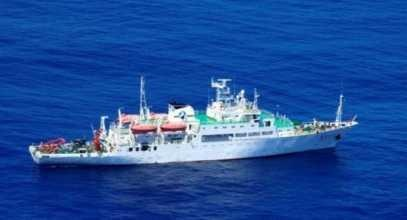warship: (25, 71, 360, 165)
